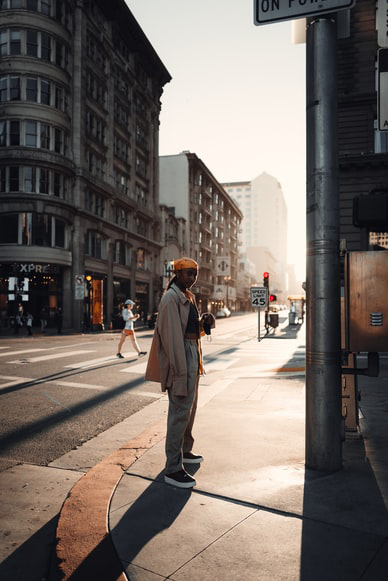removal: (250, 175, 278, 255), (160, 164, 182, 206)
spliced: (248, 286, 269, 342)
